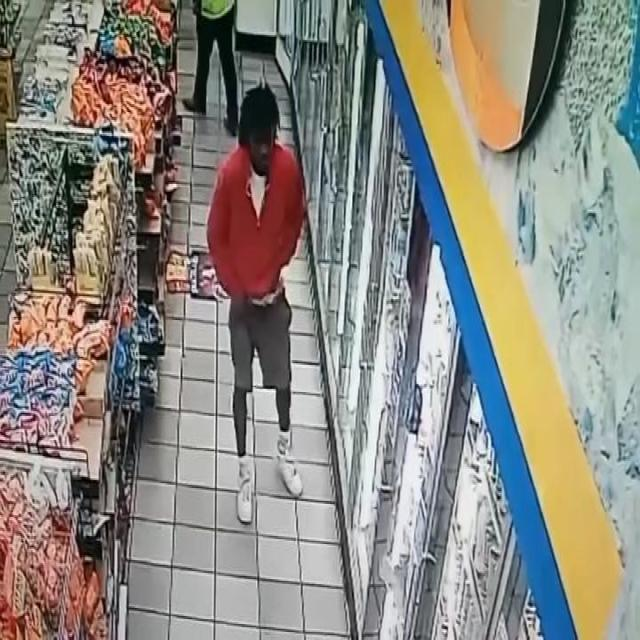Shoplifting: (191, 43, 338, 539)
